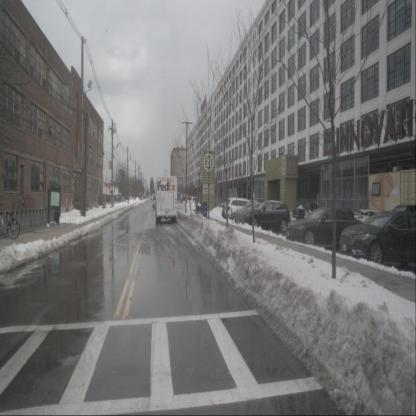vehicle-car: (339, 210, 415, 266), (286, 207, 363, 246), (241, 200, 291, 232), (224, 198, 257, 220), (353, 209, 383, 229), (186, 196, 200, 208), (152, 196, 159, 209)
vehicle-truck: (155, 176, 178, 223), (292, 202, 323, 223)
